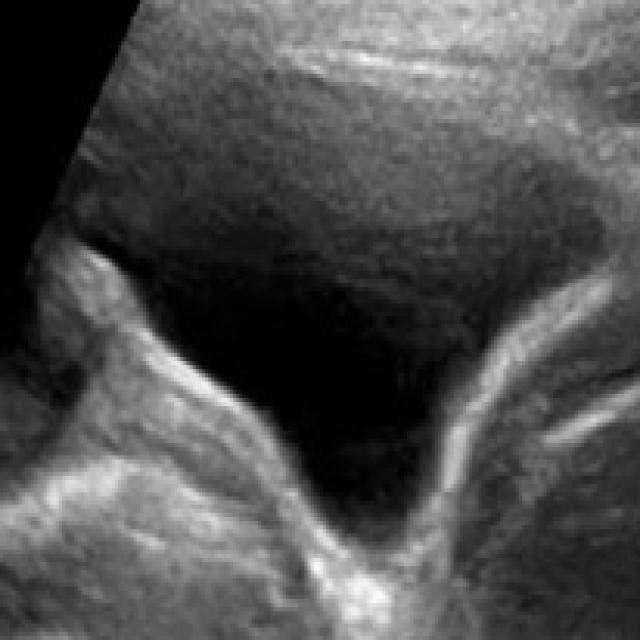bladder: (38, 17, 618, 593)
